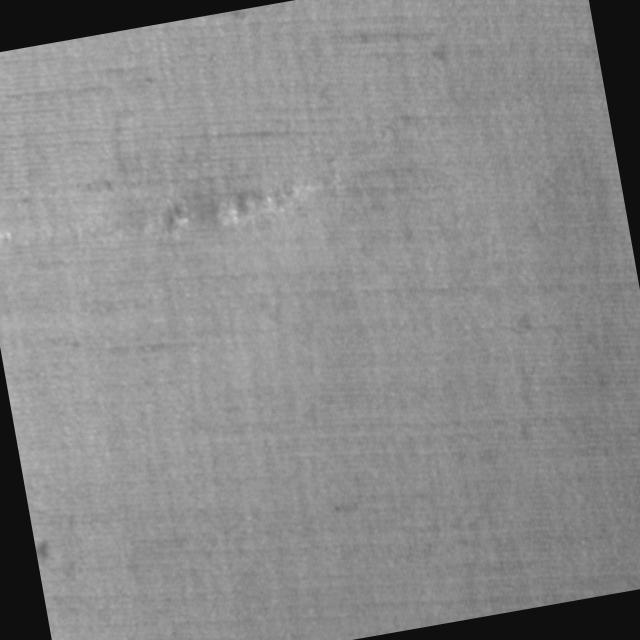thread error: (130, 165, 321, 249)
